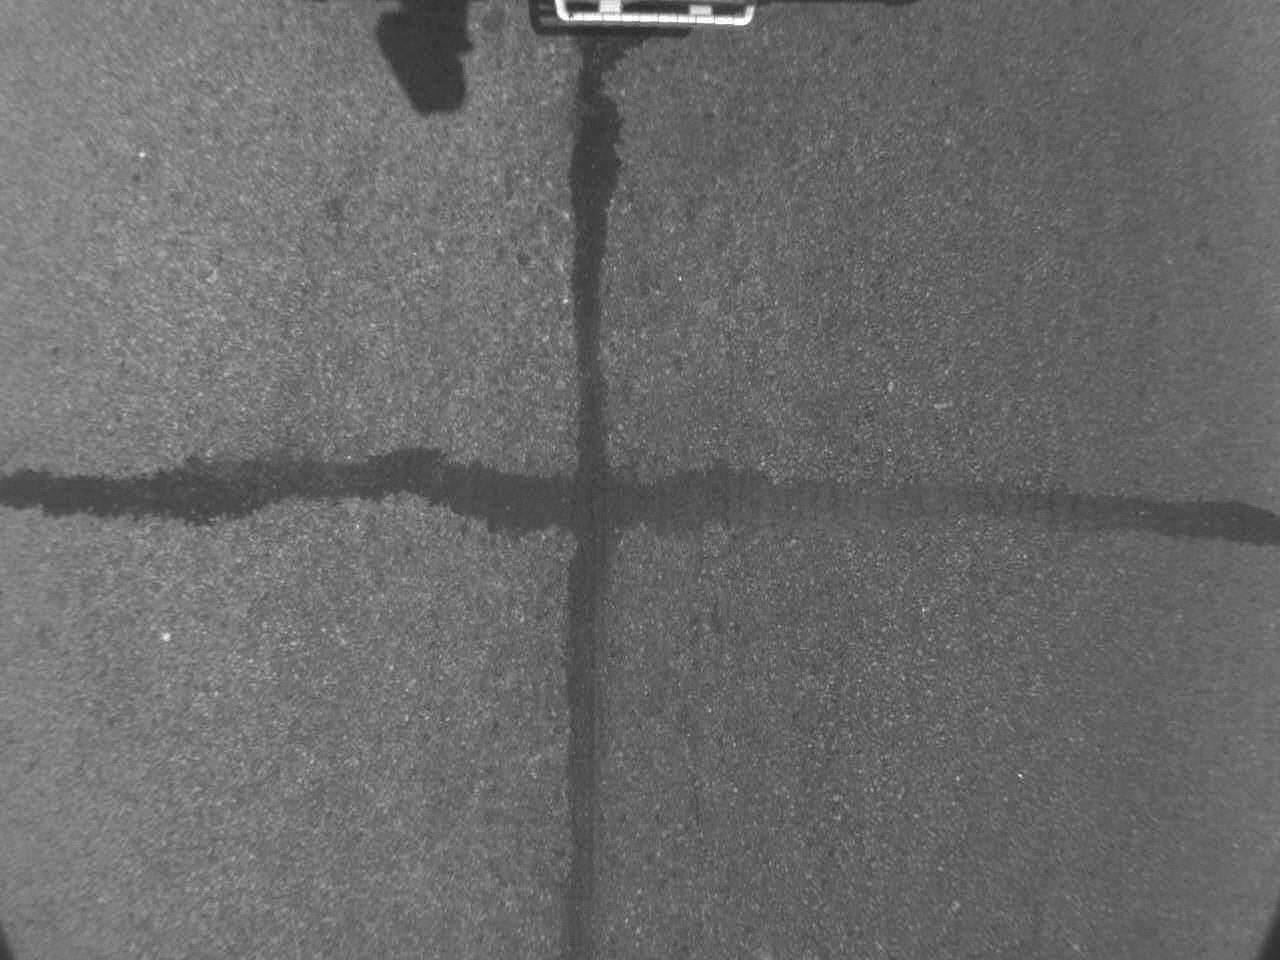sealed: (2, 444, 1280, 554), (555, 27, 624, 949)
